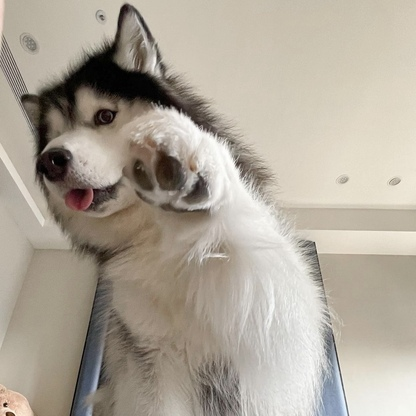husky: (15, 1, 341, 416)
